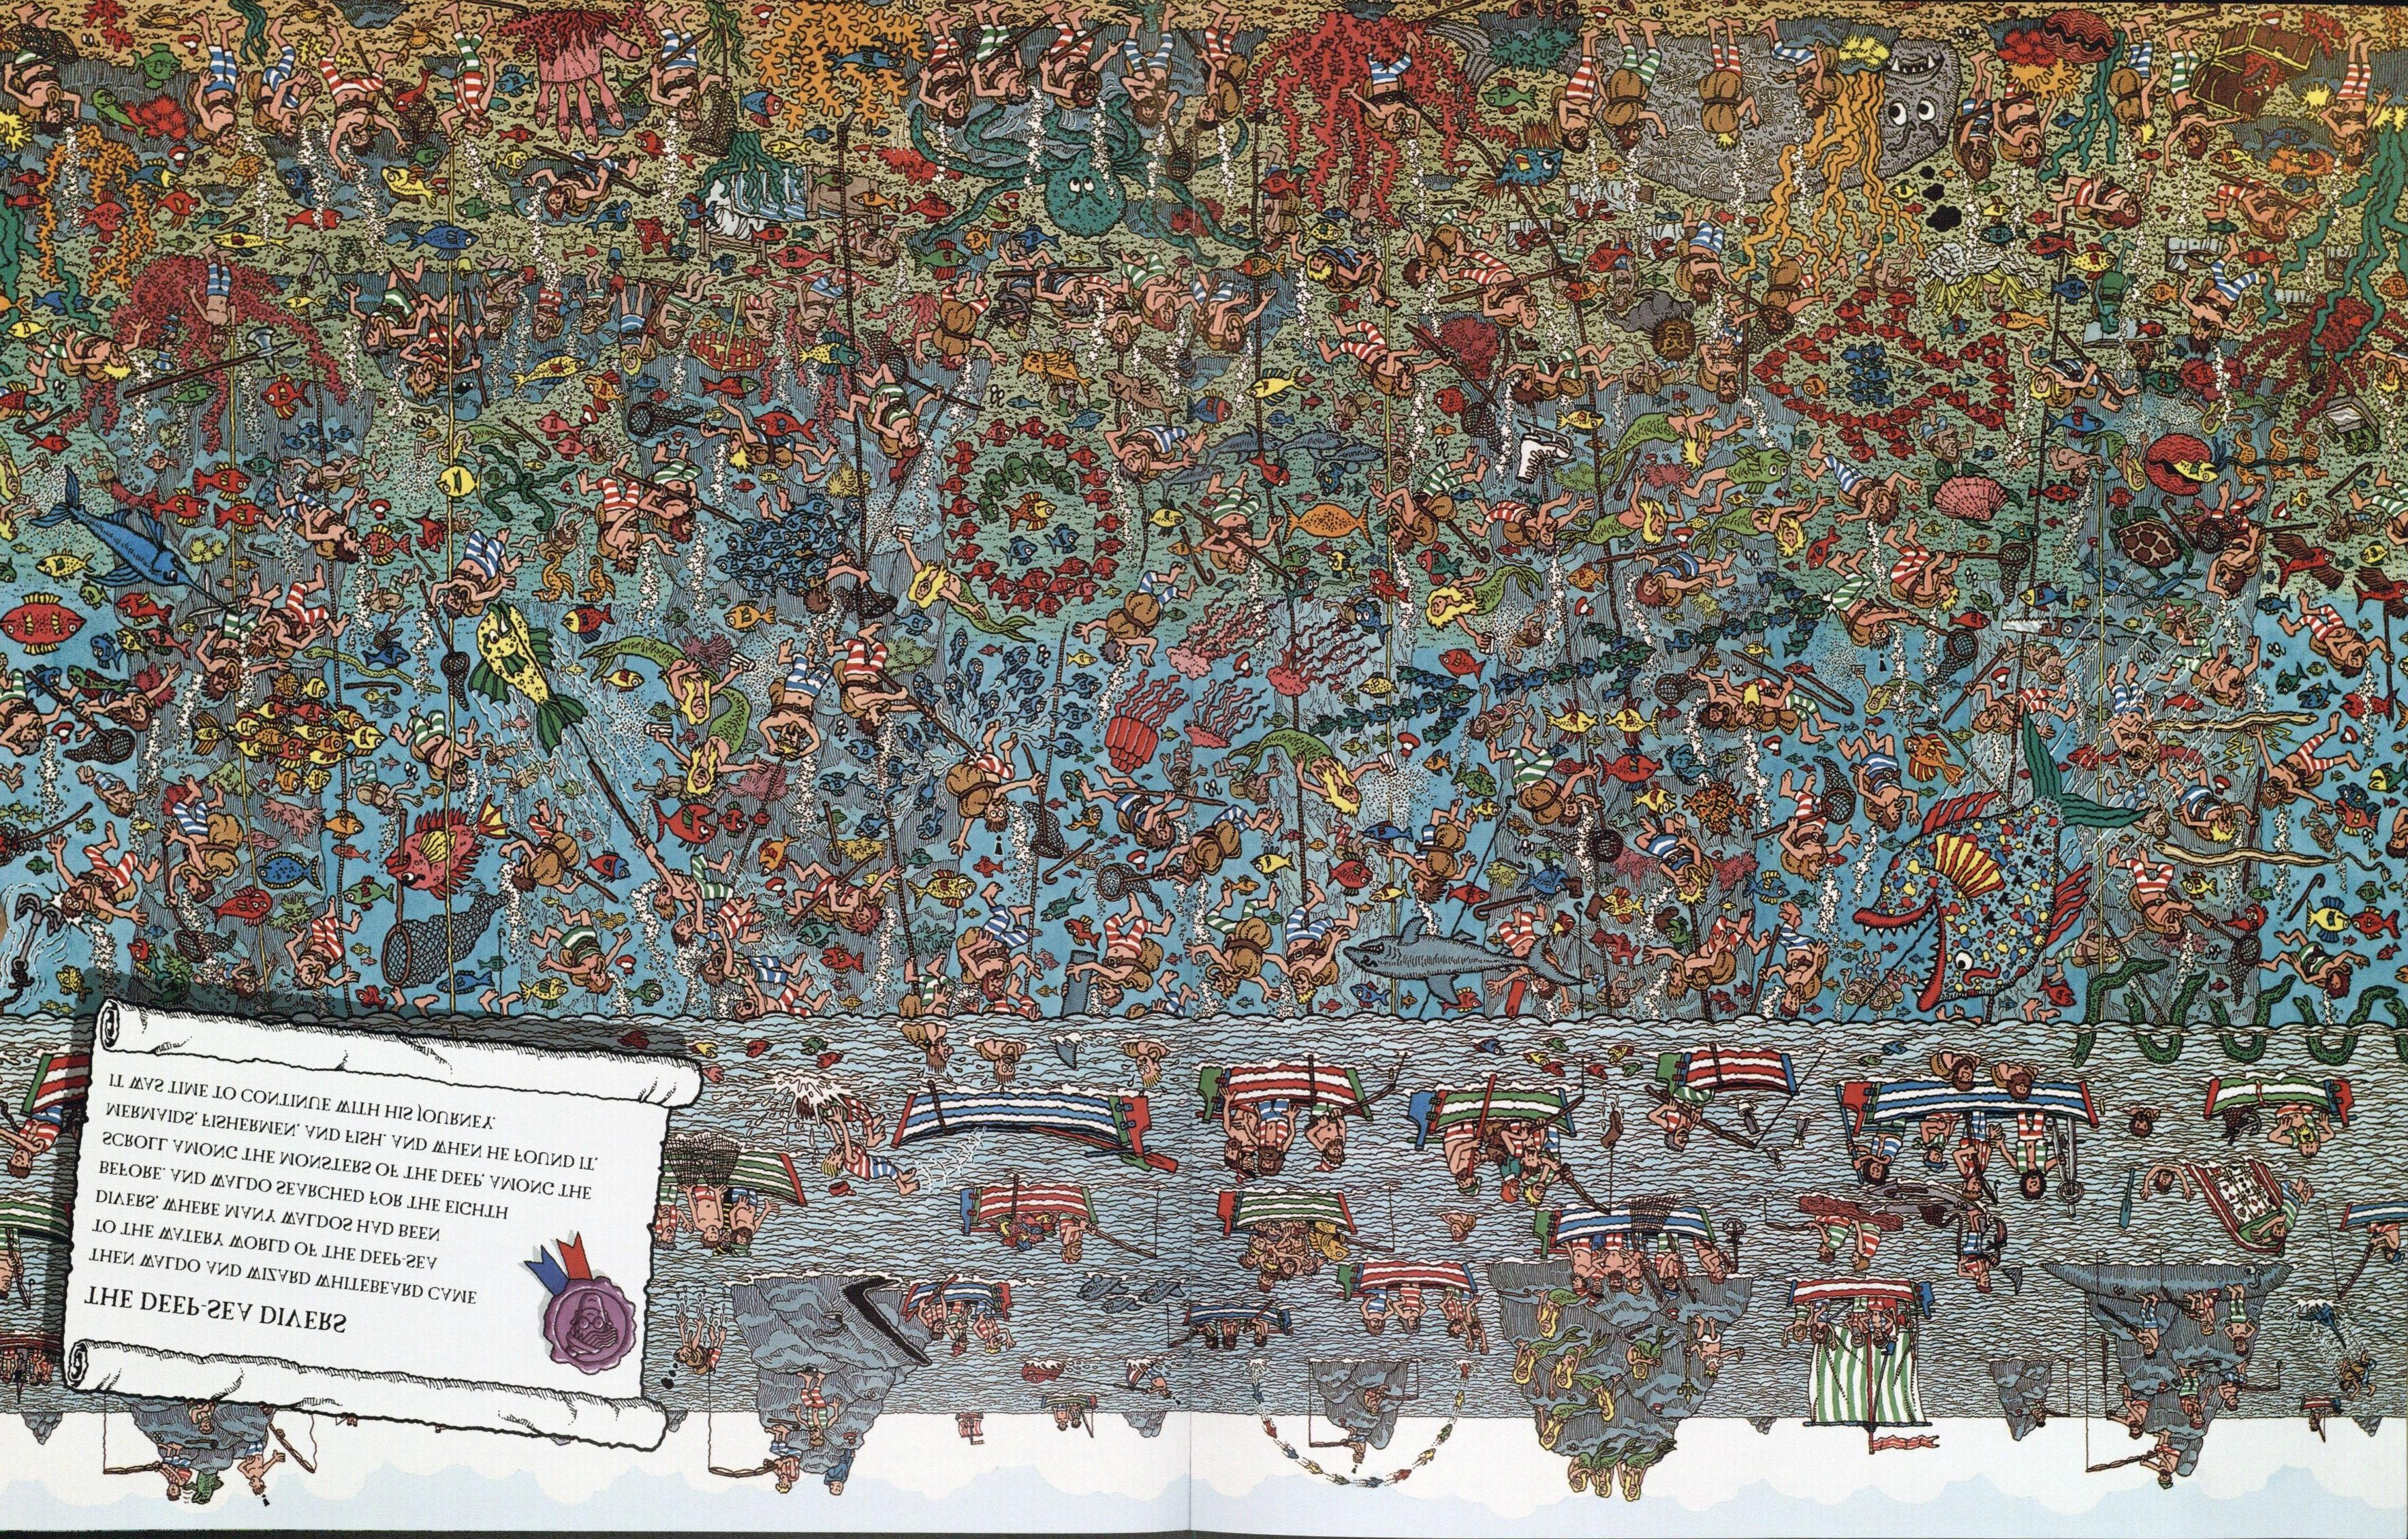waldos: (1587, 1269, 1608, 1309)
